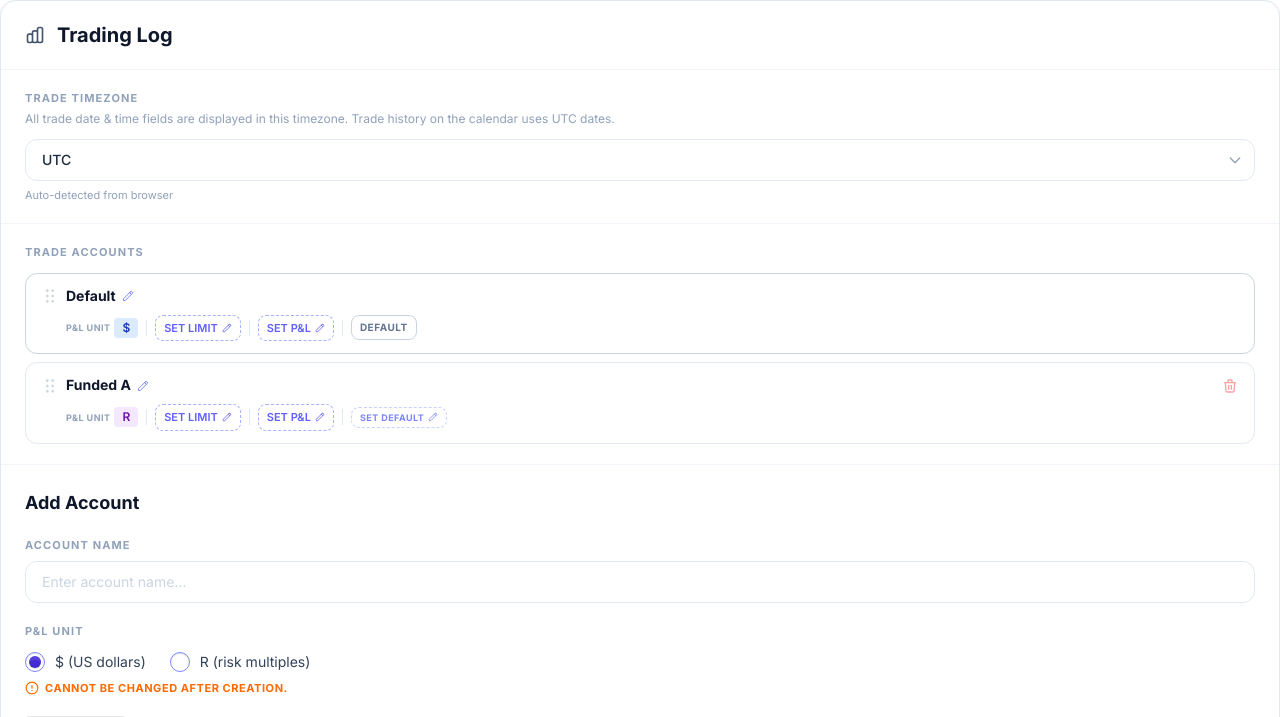
Test: TradingLogSettings › deletes non-default account
Expected: the text "Funded A" is shown, [66, 375, 131, 396]
Click the button named "Delete Funded A" at (1230, 386), box [1222, 378, 1238, 394]
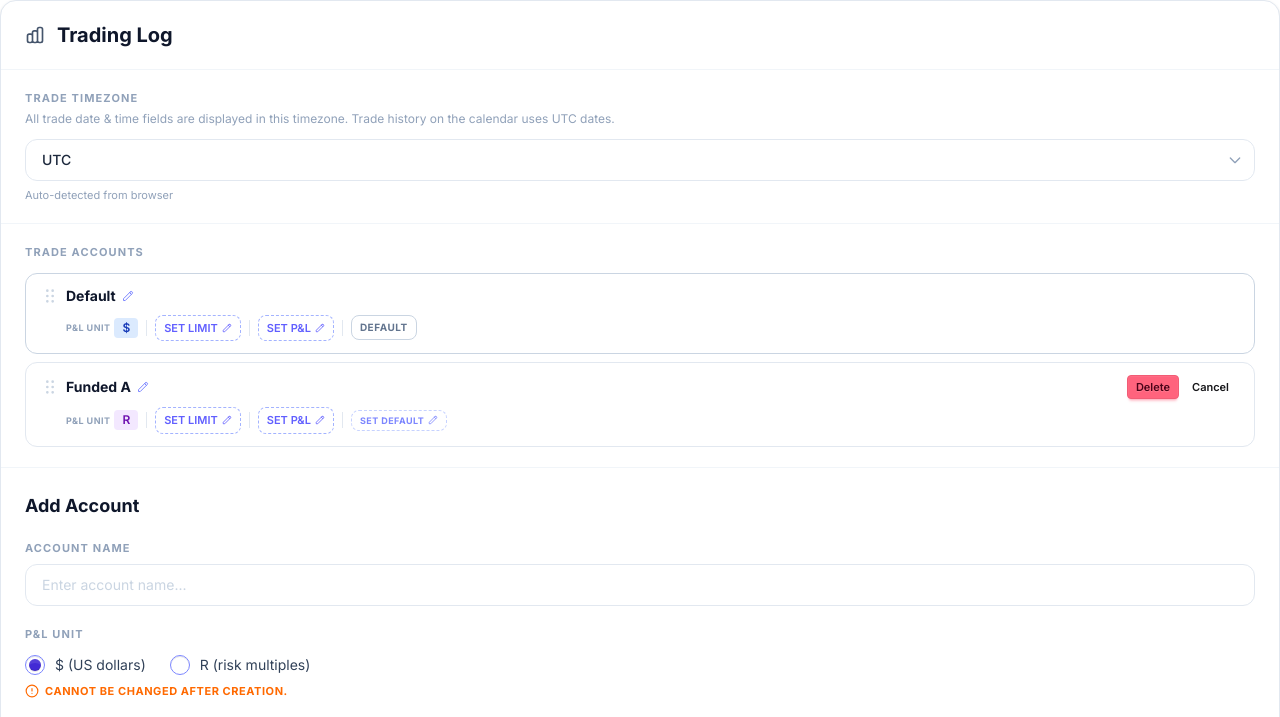
Click the button "Delete" at (1153, 387), box [1127, 375, 1179, 399]
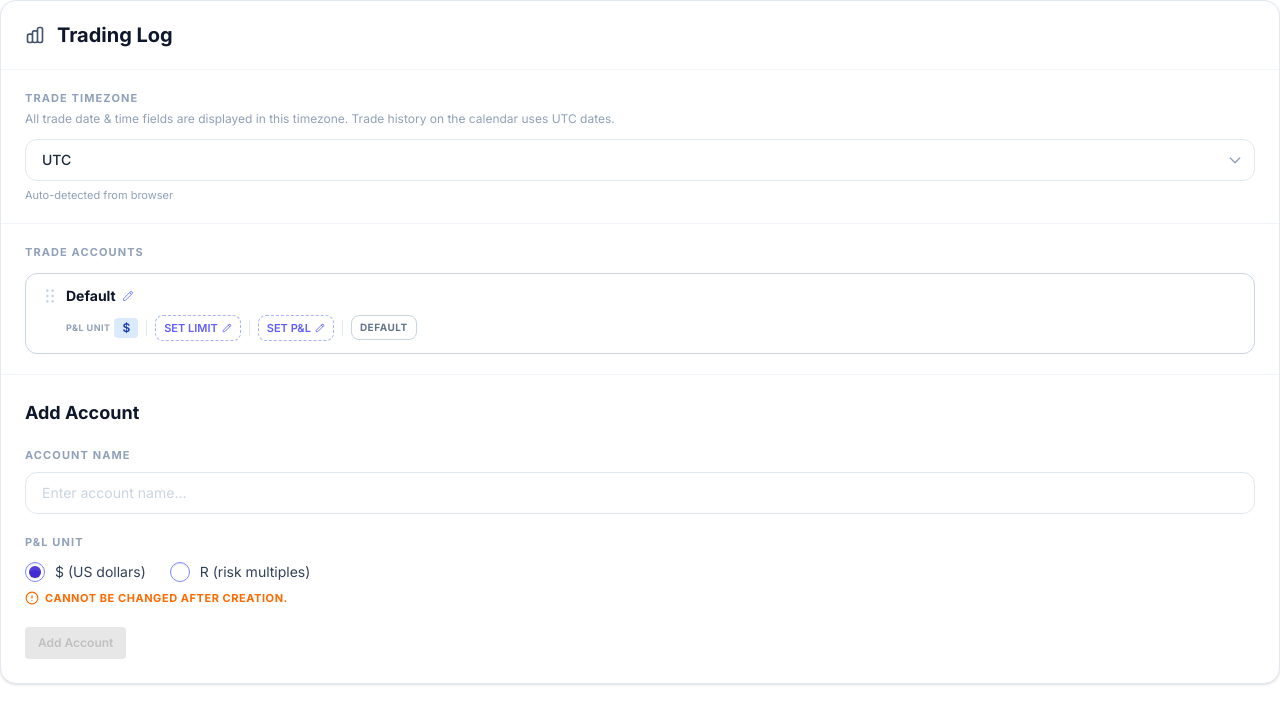
Expected: the button "Funded A" is gone
